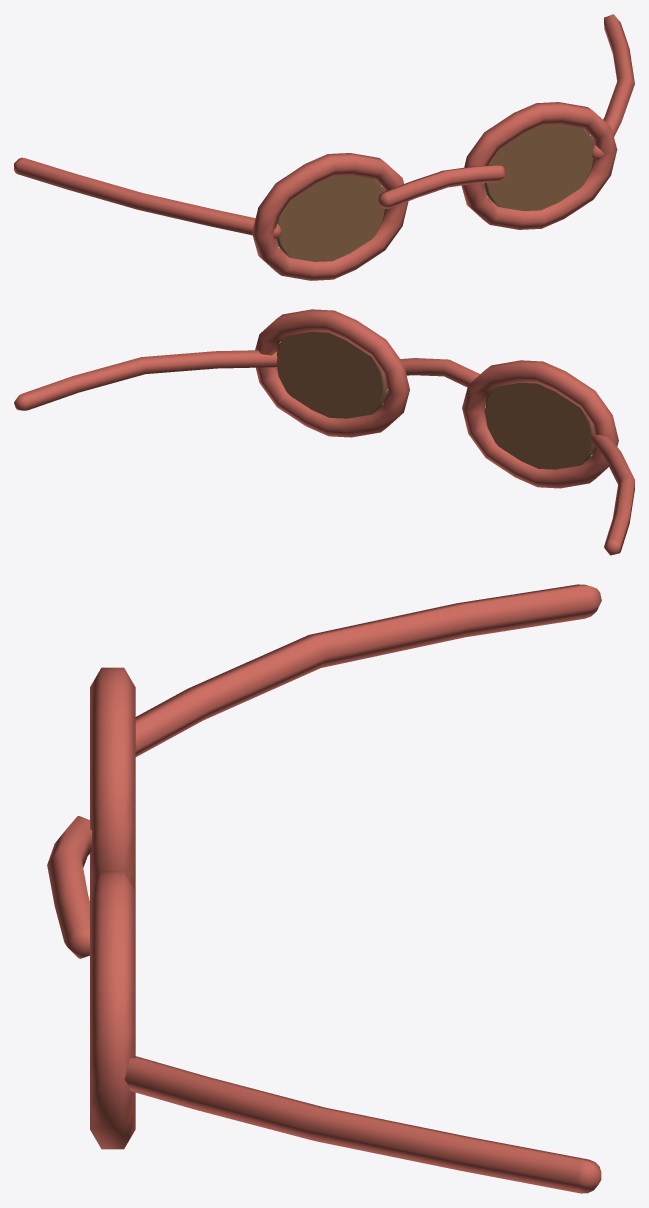
The model's file is birthday_shades.glb.
The picture shows the model from 3 angles, top to bottom: view 1: azimuth 30°, elevation 25°; view 2: azimuth 150°, elevation 25°; view 3: azimuth 270°, elevation 25°; orthographic projection. The views are drawn at different scales.
Visible parts, largest first — view 1: birthday_shades_Head; view 2: birthday_shades_Head; view 3: birthday_shades_Head.
Part boxes in pixels (x1,y1,x2,y2): birthday_shades_Head: [14, 14, 634, 280]; birthday_shades_Head: [14, 309, 634, 555]; birthday_shades_Head: [47, 584, 601, 1193].
Bounding box in the file's own units: 0.674 × 0.1296 × 0.2681.
